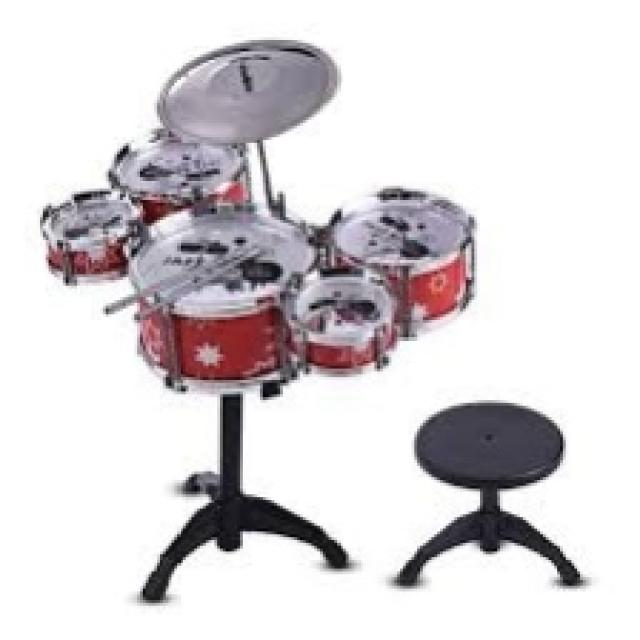drums: (40, 32, 482, 410)
